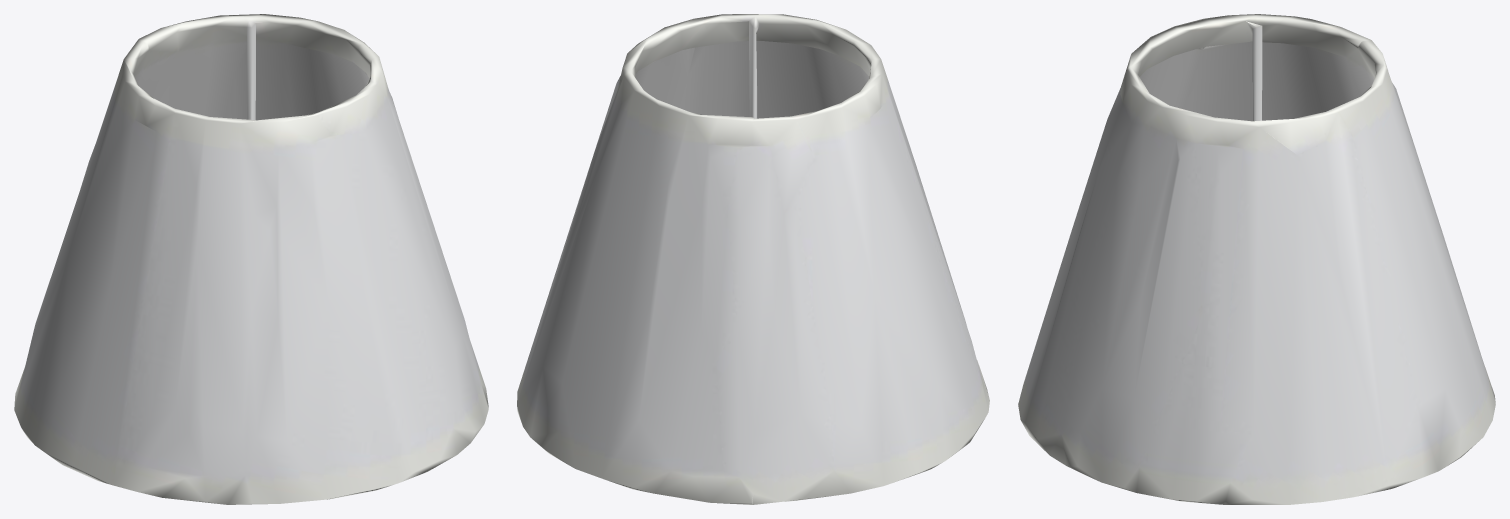
The model's file is myrhult_klosz_60405451.glb.
3 renders of one model, left to right at view 1: azimuth 30°, elevation 25°; view 2: azimuth 150°, elevation 25°; view 3: azimuth 270°, elevation 25°, orthographic.
Visible parts, largest first — view 1: myrhult_klosz_60405451; view 2: myrhult_klosz_60405451; view 3: myrhult_klosz_60405451.
Part boxes in pixels (x1,y1,x2,y2): myrhult_klosz_60405451: (14,14,488,504); myrhult_klosz_60405451: (517,14,989,504); myrhult_klosz_60405451: (1018,14,1495,504).
Size of the model in its own units: 0.191 by 0.1517 by 0.1923.
1 material, 1 textured.
